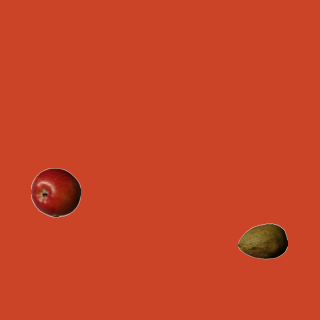Apple Braeburn: (30, 167, 80, 217)
Papaya: (237, 216, 287, 266)
